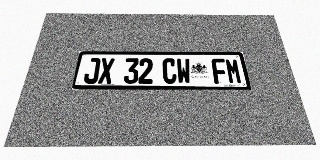2: (138, 58, 153, 84)
3: (123, 58, 139, 84)
C: (162, 58, 177, 84)
F: (211, 58, 228, 84)
J: (83, 58, 101, 84)
M: (225, 58, 243, 84)
W: (176, 58, 191, 84)
X: (98, 58, 115, 84)
